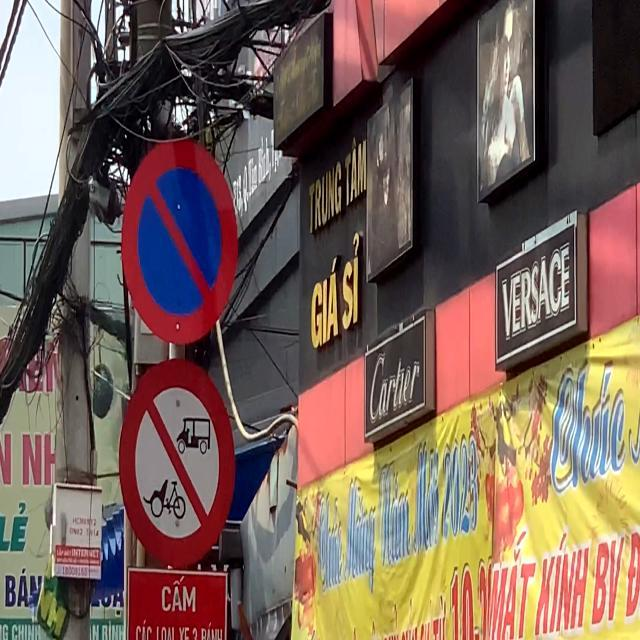Cam do xe: (120, 138, 238, 347)
